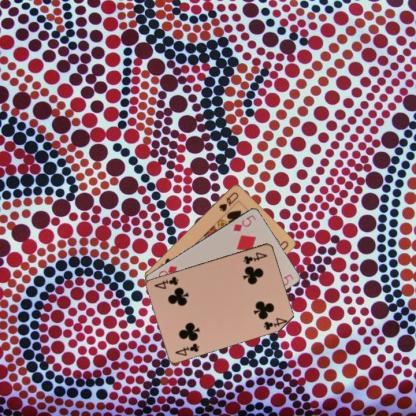4c: (241, 249, 269, 266), (173, 340, 200, 357)
5d: (229, 212, 257, 235)
Qs: (216, 189, 240, 213)
